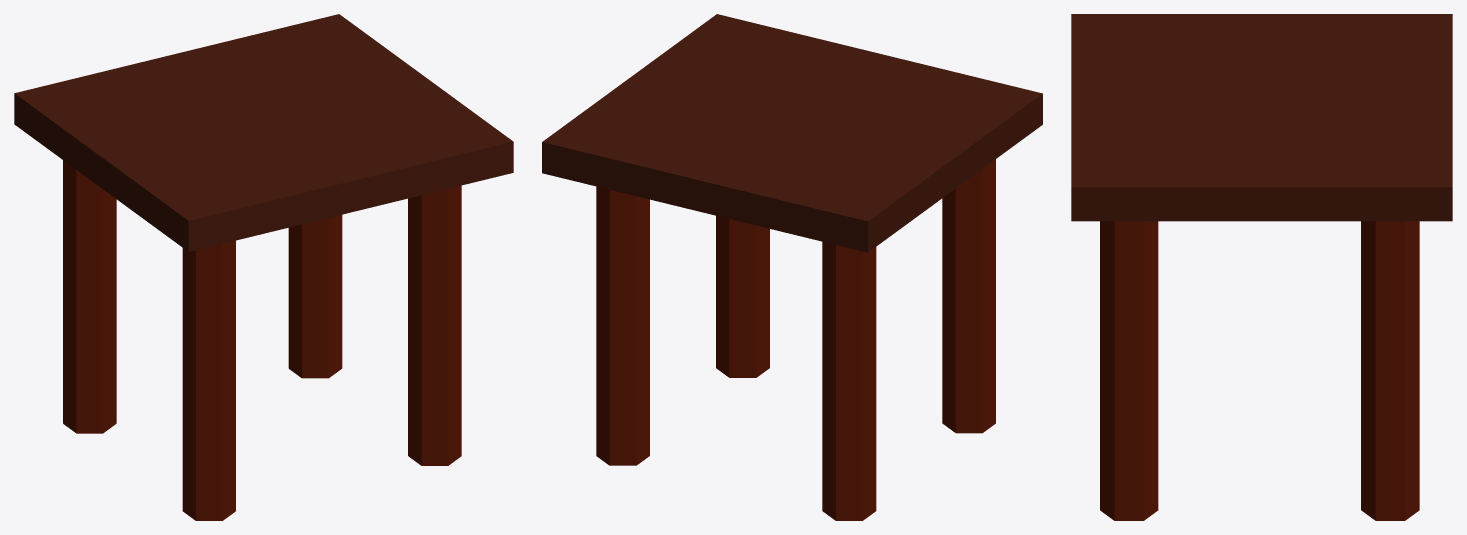
File: SquareTable.fbx
3 renders of one model, left to right at view 1: azimuth 30°, elevation 25°; view 2: azimuth 150°, elevation 25°; view 3: azimuth 270°, elevation 25°, orthographic. The views are drawn at different scales.
Visible parts, largest first — view 1: Cube, Cylinder.018, Cylinder.020, Cylinder.017, Cylinder.019; view 2: Cube, Cylinder.017, Cylinder.019, Cylinder.018, Cylinder.020; view 3: Cube, Cylinder.019, Cylinder.020.
Part boxes in pixels (box(x1,y1,x2,y2)): Cube: box(14, 14, 513, 251); Cylinder.018: box(182, 240, 235, 520); Cylinder.020: box(408, 185, 461, 465); Cylinder.017: box(63, 160, 116, 433); Cylinder.019: box(288, 214, 342, 378); Cube: box(542, 14, 1042, 252); Cylinder.017: box(822, 241, 876, 520); Cylinder.019: box(596, 186, 649, 465); Cylinder.018: box(942, 159, 995, 433); Cylinder.020: box(716, 216, 769, 377); Cube: box(1071, 14, 1452, 221); Cylinder.019: box(1361, 221, 1419, 520); Cylinder.020: box(1100, 221, 1158, 520).
Bounding box in the file's own units: 676 × 638 × 628.
